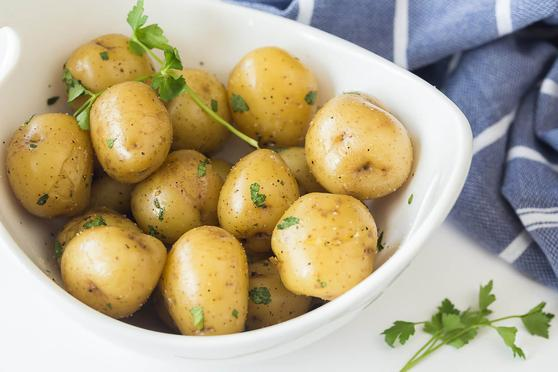potato: (275, 186, 387, 304), (306, 91, 417, 209), (54, 215, 166, 321), (156, 221, 251, 337), (89, 74, 174, 179)
